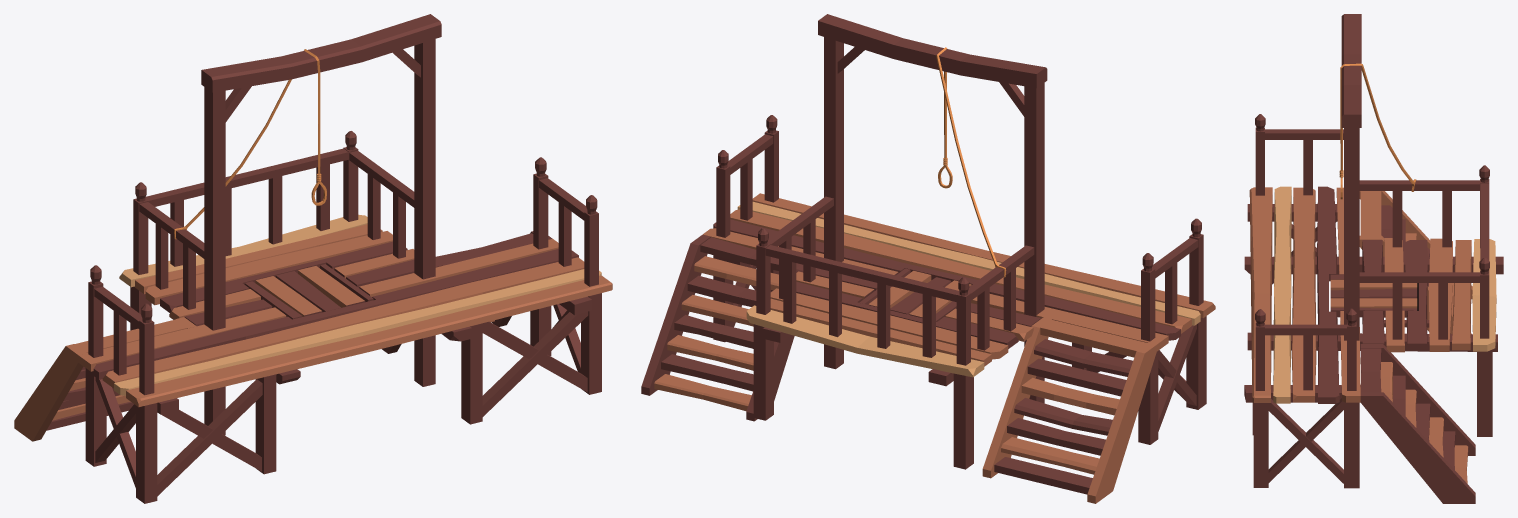
The model's file is Execution Tribun 01.fbx.
3 renders of one model, left to right at view 1: azimuth 30°, elevation 25°; view 2: azimuth 150°, elevation 25°; view 3: azimuth 270°, elevation 25°, orthographic. The views are drawn at different scales.
Visible parts, largest first — view 1: Execution Tribun 01, Execution Trap 01, Execution Rope 01; view 2: Execution Tribun 01, Execution Trap 01, Execution Rope 01; view 3: Execution Tribun 01, Execution Trap 01, Execution Rope 01.
Part boxes in pixels (bbox=[...]): Execution Tribun 01: bbox=[14, 14, 612, 503]; Execution Trap 01: bbox=[244, 264, 373, 319]; Execution Rope 01: bbox=[174, 49, 326, 239]; Execution Tribun 01: bbox=[641, 14, 1215, 503]; Execution Trap 01: bbox=[859, 268, 971, 321]; Execution Rope 01: bbox=[936, 47, 1006, 277]; Execution Tribun 01: bbox=[1244, 14, 1503, 503]; Execution Trap 01: bbox=[1330, 274, 1418, 317]; Execution Rope 01: bbox=[1339, 63, 1416, 199].
Size of the model in its own units: 811 by 604 by 423.
